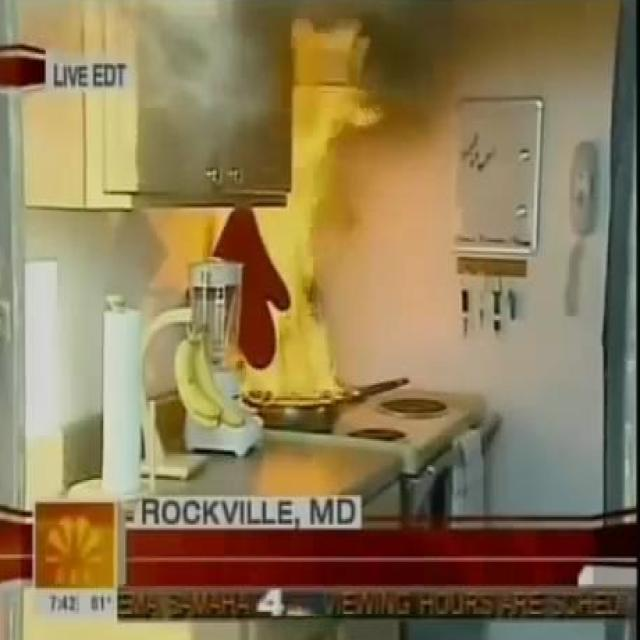fire: (101, 0, 290, 169), (340, 0, 491, 141)
smoke: (246, 134, 340, 410)
